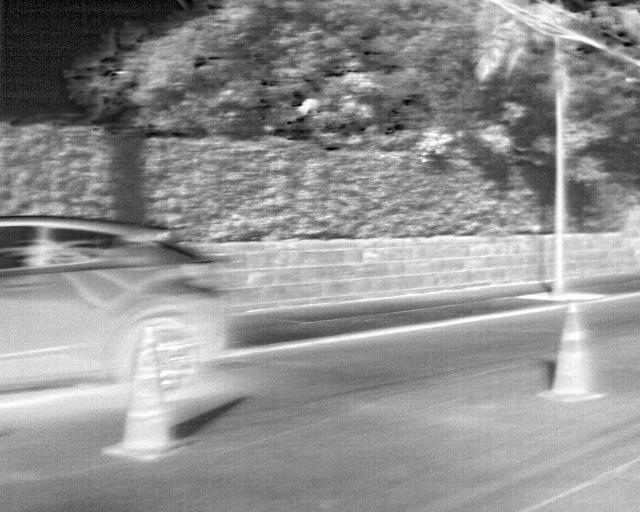car: (0, 212, 131, 391), (157, 224, 229, 396)
